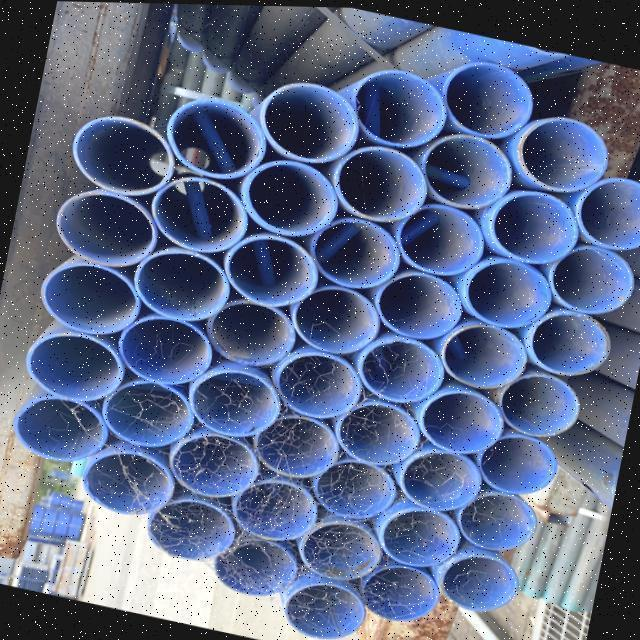pipe: (71, 113, 172, 198), (55, 187, 157, 270), (261, 83, 359, 169), (41, 257, 140, 340), (165, 97, 267, 177), (26, 329, 127, 406), (351, 70, 447, 151), (399, 204, 485, 293), (15, 395, 110, 475), (335, 145, 428, 224), (120, 316, 216, 392), (245, 161, 337, 240), (135, 252, 233, 326), (155, 178, 249, 254), (441, 64, 532, 142), (313, 218, 401, 296), (421, 138, 510, 215), (227, 236, 320, 309), (254, 406, 347, 479), (488, 193, 578, 268), (190, 364, 281, 437), (513, 121, 600, 197), (87, 451, 182, 520), (278, 349, 362, 425), (206, 297, 296, 367), (358, 336, 445, 407), (171, 434, 263, 501), (295, 287, 383, 357), (376, 271, 466, 339), (466, 261, 551, 332), (107, 381, 194, 450), (555, 242, 637, 314), (149, 500, 240, 563), (420, 395, 507, 460), (441, 324, 527, 389), (337, 397, 420, 464), (301, 518, 385, 584), (528, 310, 609, 376), (232, 480, 318, 542), (400, 453, 486, 515), (219, 537, 304, 599), (379, 509, 463, 571), (501, 372, 581, 436), (314, 458, 396, 520), (286, 581, 371, 640), (480, 435, 563, 494), (459, 494, 541, 553), (574, 177, 640, 250), (360, 565, 443, 623), (443, 556, 522, 611)
